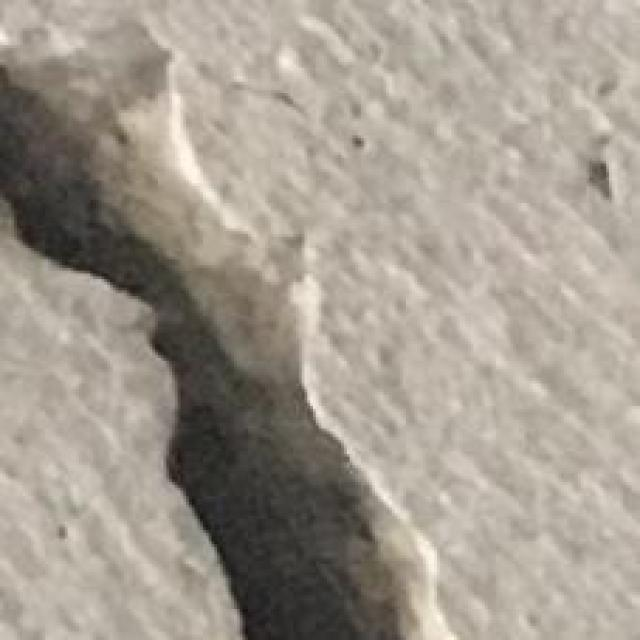Crack: (3, 3, 462, 637)
